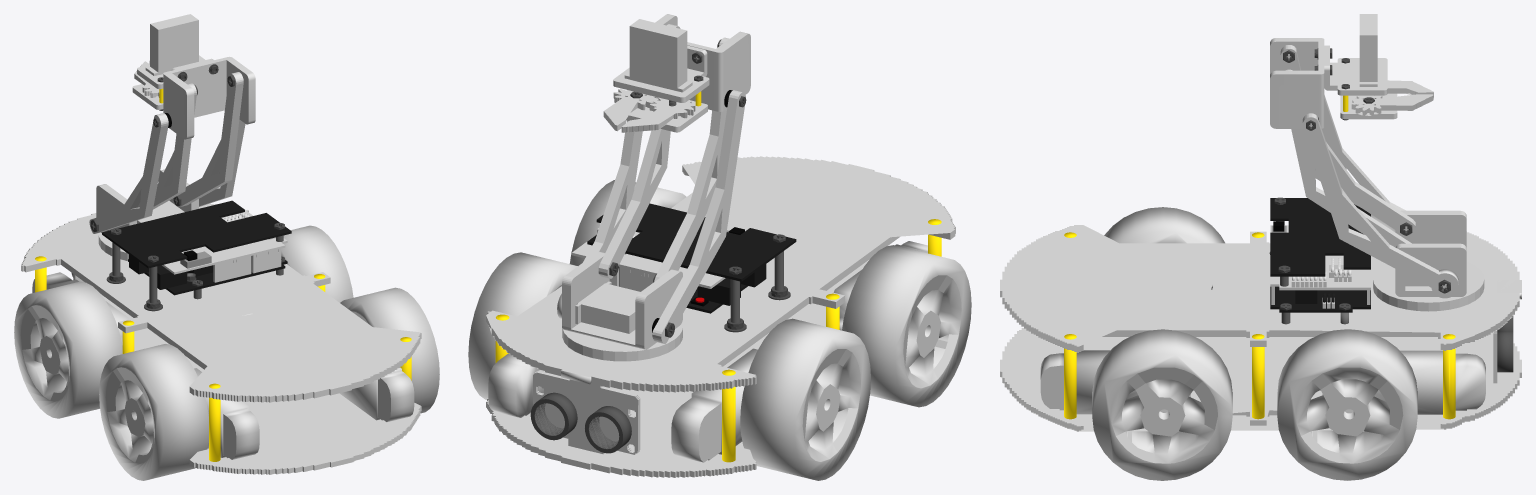
The model's file is Robot4 base.fbx.
3 renders of one model, left to right at view 1: azimuth 30°, elevation 25°; view 2: azimuth 150°, elevation 25°; view 3: azimuth 270°, elevation 25°, orthographic. The views are drawn at different scales.
Visible parts, largest first — view 1: Base, Conduit.002, Tire 2, Tire 4, RobotUpperComponent, Tire 1, Tire 3, Handle_Upper_Right, Handle_Lower_Left, Servo.001, RobotBasePad, Handle_Upper_Left (+1 smaller); view 2: Base, Tire 4, Tire 2, Conduit.002, RobotBasePad, Tire 3, RobotUpperComponent, Handle_Lower_Left, Servo.001, Handle_Upper_Right, Handle_Upper_Left, Handle_Lower_Right (+4 smaller); view 3: Base, Tire 1, Tire 3, Conduit.002, RobotUpperComponent, RobotBasePad, Handle_Lower_Right, Tire 2, Handle_Upper_Left, Handle_Upper_Right, Servo.001, Handle_Lower_Left (+1 smaller).
Boxes of the visible parts, bbox=[...] form: Base: bbox=[21, 203, 421, 474]; Conduit.002: bbox=[102, 200, 291, 311]; Tire 2: bbox=[99, 344, 208, 480]; Tire 4: bbox=[14, 281, 122, 418]; RobotUpperComponent: bbox=[132, 55, 255, 139]; Tire 1: bbox=[340, 287, 439, 413]; Tire 3: bbox=[281, 225, 353, 302]; Handle_Upper_Right: bbox=[177, 72, 243, 207]; Handle_Lower_Left: bbox=[89, 113, 168, 233]; Servo.001: bbox=[145, 14, 201, 75]; RobotBasePad: bbox=[96, 169, 198, 260]; Handle_Upper_Left: bbox=[137, 83, 196, 209]; Base: bbox=[486, 156, 955, 477]; Tire 4: bbox=[740, 318, 870, 480]; Tire 2: bbox=[842, 245, 971, 407]; Conduit.002: bbox=[571, 203, 796, 332]; RobotBasePad: bbox=[562, 251, 682, 361]; Tire 3: bbox=[468, 252, 577, 399]; RobotUpperComponent: bbox=[613, 14, 750, 132]; Handle_Lower_Left: bbox=[652, 90, 745, 343]; Servo.001: bbox=[624, 19, 692, 92]; Handle_Upper_Right: bbox=[598, 24, 680, 278]; Handle_Upper_Left: bbox=[654, 37, 729, 281]; Handle_Lower_Right: bbox=[557, 120, 642, 318]; Base: bbox=[1000, 225, 1521, 431]; Tire 1: bbox=[1092, 329, 1232, 480]; Tire 3: bbox=[1277, 329, 1417, 480]; Conduit.002: bbox=[1269, 197, 1370, 324]; RobotUpperComponent: bbox=[1270, 38, 1397, 128]; RobotBasePad: bbox=[1373, 210, 1484, 311]; Handle_Lower_Right: bbox=[1302, 113, 1458, 298]; Tire 2: bbox=[1104, 207, 1224, 243]; Handle_Upper_Left: bbox=[1280, 45, 1415, 236]; Handle_Upper_Right: bbox=[1285, 69, 1411, 247]; Servo.001: bbox=[1359, 14, 1377, 86]; Handle_Lower_Left: bbox=[1322, 95, 1405, 210].
Size of the model in its own units: 453 by 681 by 551.
